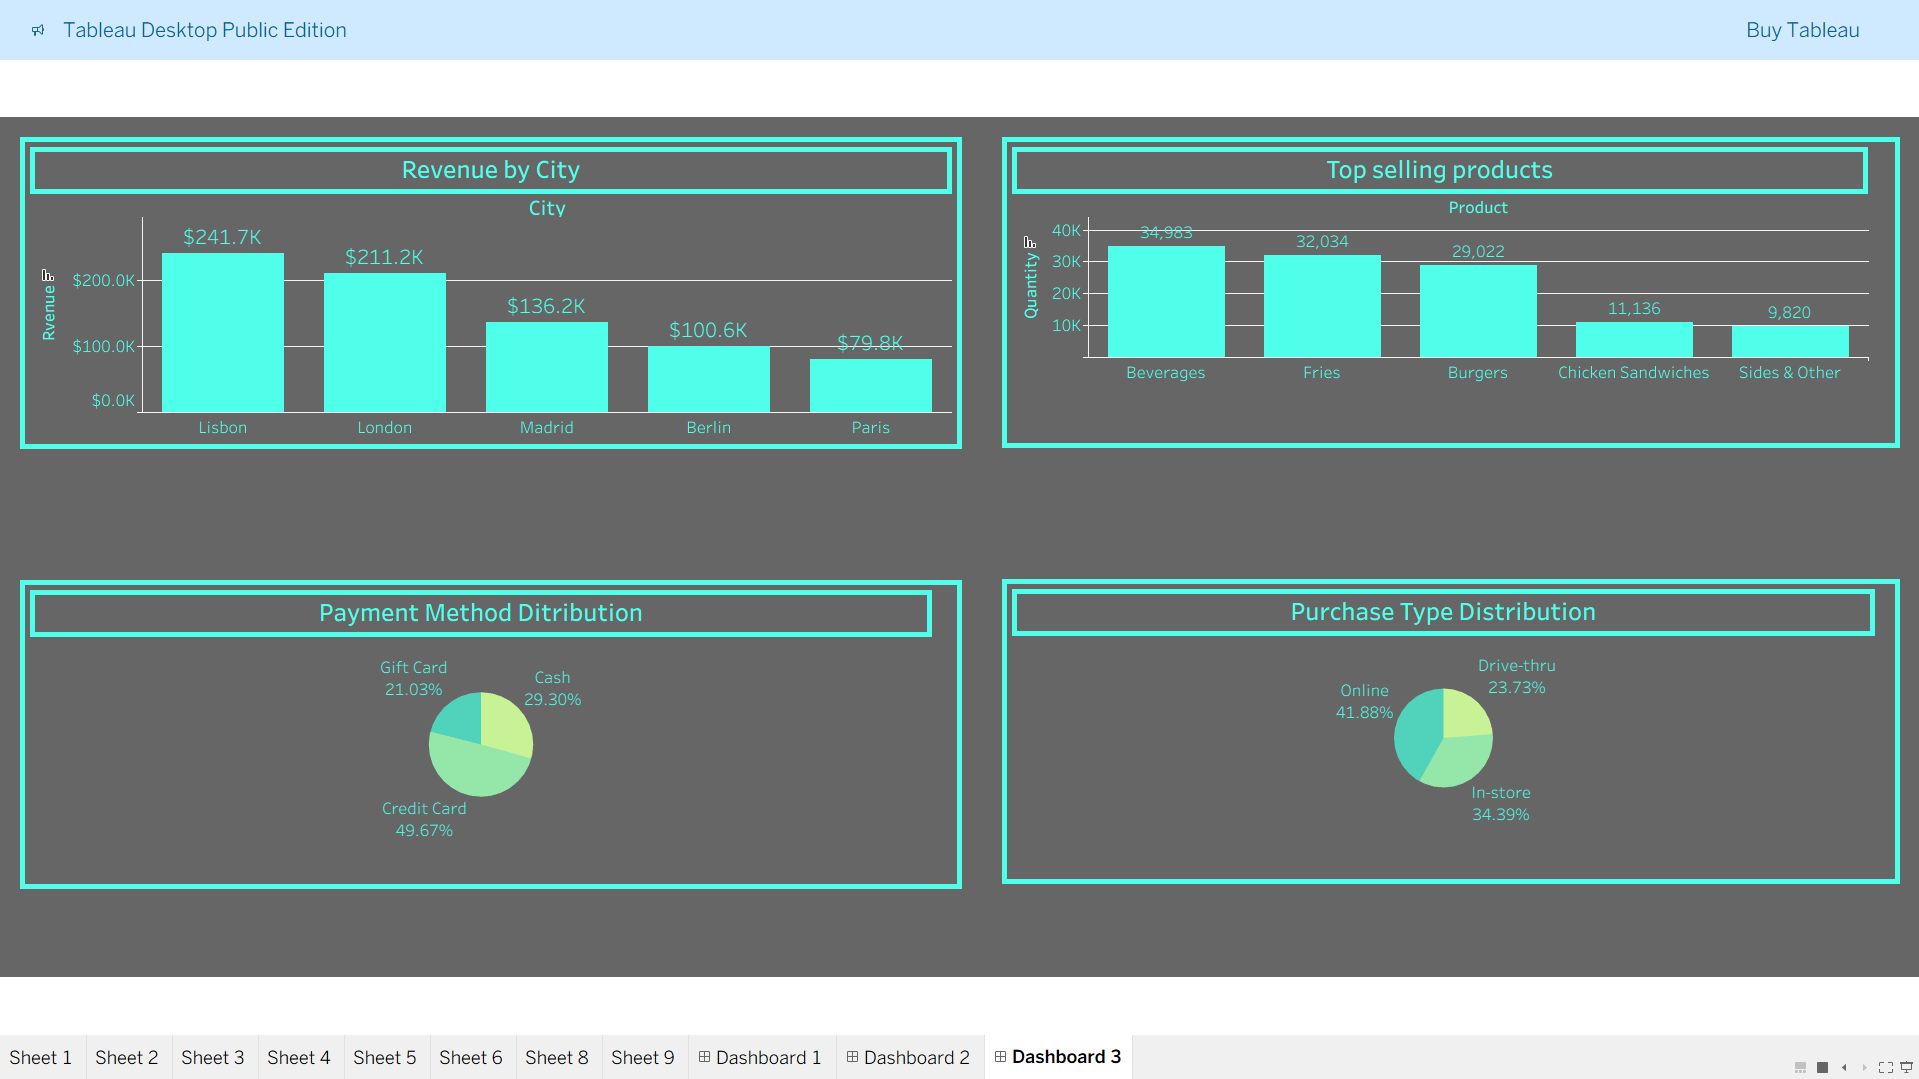

What the dashboard file says about the page in this screenshot:
{"tool":"tableau","page":{"name":"Dashboard 3","canvas":[1000,1000],"units":"permille","ordinal":2},"visuals":[{"type":"worksheet","title":"Sheet 2","mark":"Automatic","rows":["Calculation_0645987791142912"],"cols":["City"],"box":[0,0,511.2,471.9]},{"type":"worksheet","title":"Sheet 3","mark":"Automatic","rows":["Quantity"],"cols":["Product"],"box":[511.2,0,488.8,470.5]},{"type":"worksheet","title":"Sheet 4","mark":"Pie","box":[511.2,513.4,488.8,462.5]},{"type":"worksheet","title":"Sheet 5","mark":"Pie","box":[0,514.8,511.2,467.8]}]}

Visuals, with their boxes on the dashboard's canvas, which has no fixed pixel size, in thousandths of its width and height (x1, y1, x2, y2). These are canvas units, not pixel positions in the 1919x1079 screenshot, which may show the page scaled, cropped or inside an application window:
"Sheet 2" worksheet: box(0, 0, 511, 472)
"Sheet 3" worksheet: box(511, 0, 1000, 470)
"Sheet 4" worksheet (Pie marks): box(511, 513, 1000, 976)
"Sheet 5" worksheet (Pie marks): box(0, 515, 511, 983)
